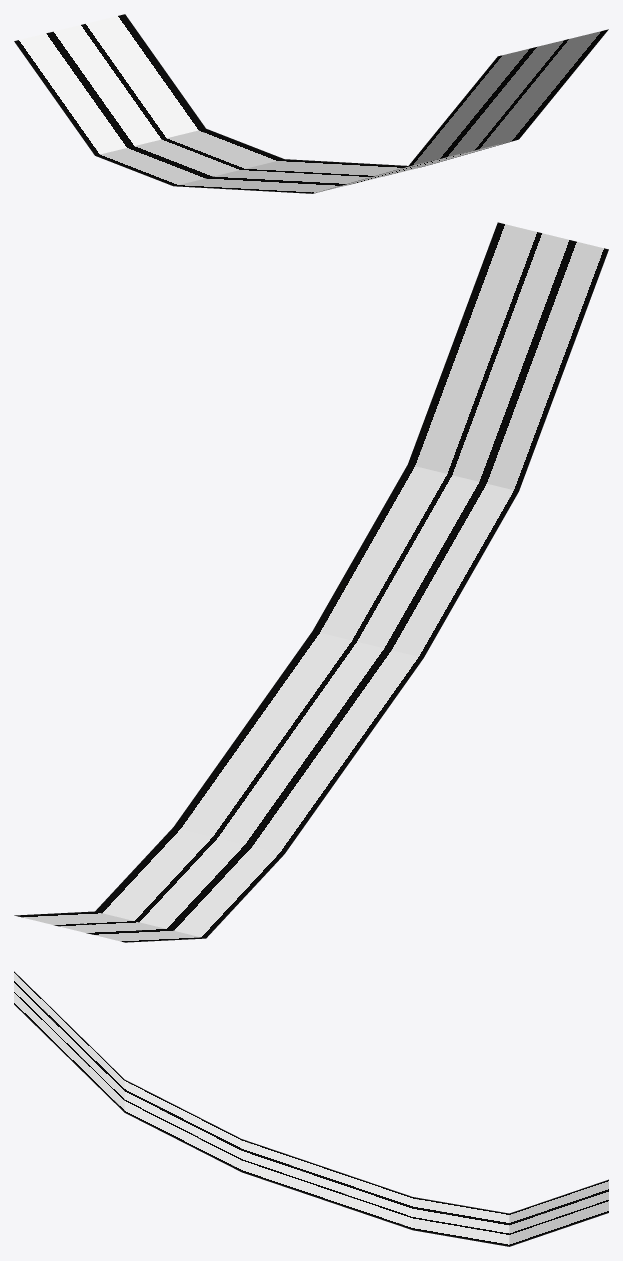
File: Kabel_Lichtleitung_Up_Short_2605.glb
3 views of the same model, one above another, from view 1: azimuth 30°, elevation 25°; view 2: azimuth 150°, elevation 25°; view 3: azimuth 270°, elevation 25° (orthographic). The views are drawn at different scales.
Parts seen in each view (by area): view 1: pPlaneShape128; view 2: pPlaneShape128; view 3: pPlaneShape128.
Boxes of the visible parts, x1,y1,x2,y2 form: pPlaneShape128: (14,14,608,193); pPlaneShape128: (14,222,608,942); pPlaneShape128: (14,971,608,1246).
Size of the model in its own units: 0.132 by 0.4472 by 0.9947.
1 material, 1 textured.
